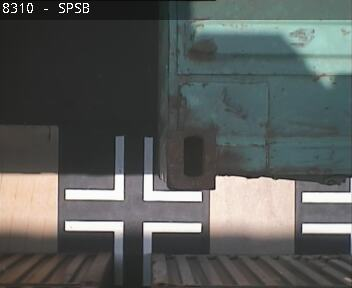groundmarker_1: (65, 137, 202, 201), (64, 219, 202, 282)
